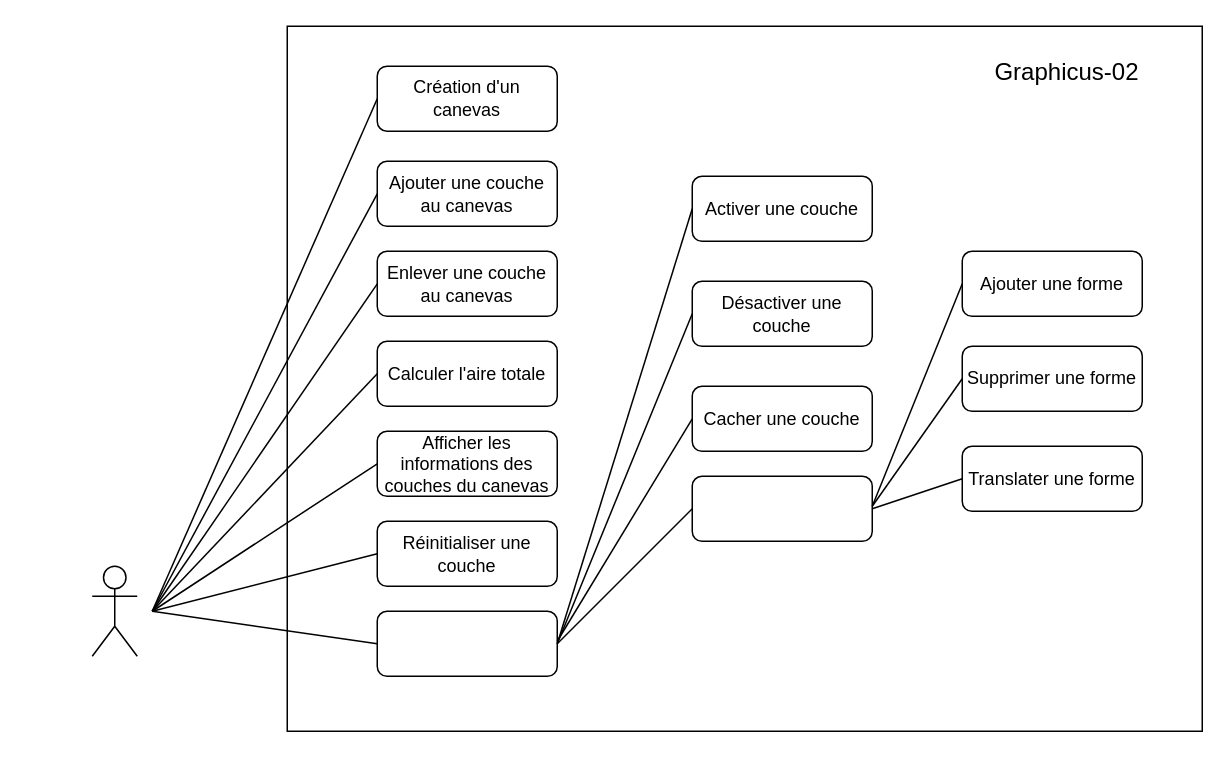
Image size: 1229x758. Some labels were removed from this diagram. Each missing label, with the centre of its shape:
"Concepteur graphique" goes at pixel 114 610.
"Éditer les formes" goes at pixel 781 508.
"Éditer une couche" goes at pixel 466 643.
